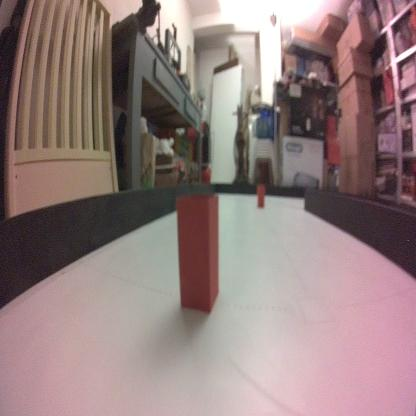red: (175, 191, 219, 318), (257, 184, 265, 208)
